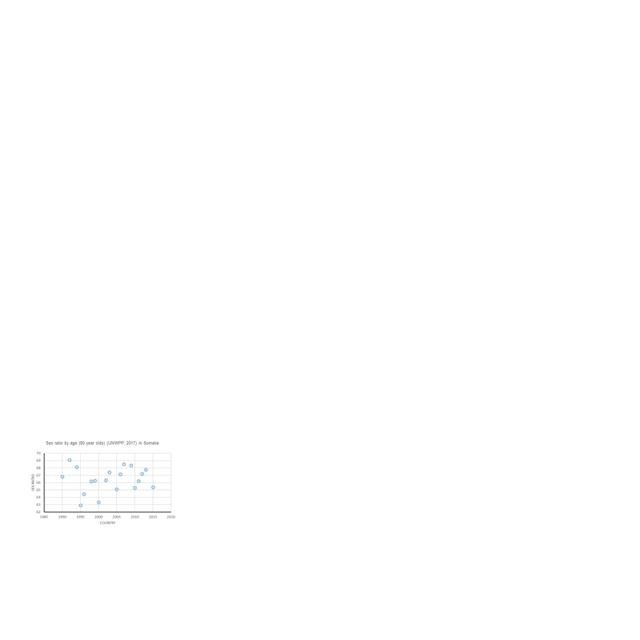Graph: (27, 439, 177, 526)
